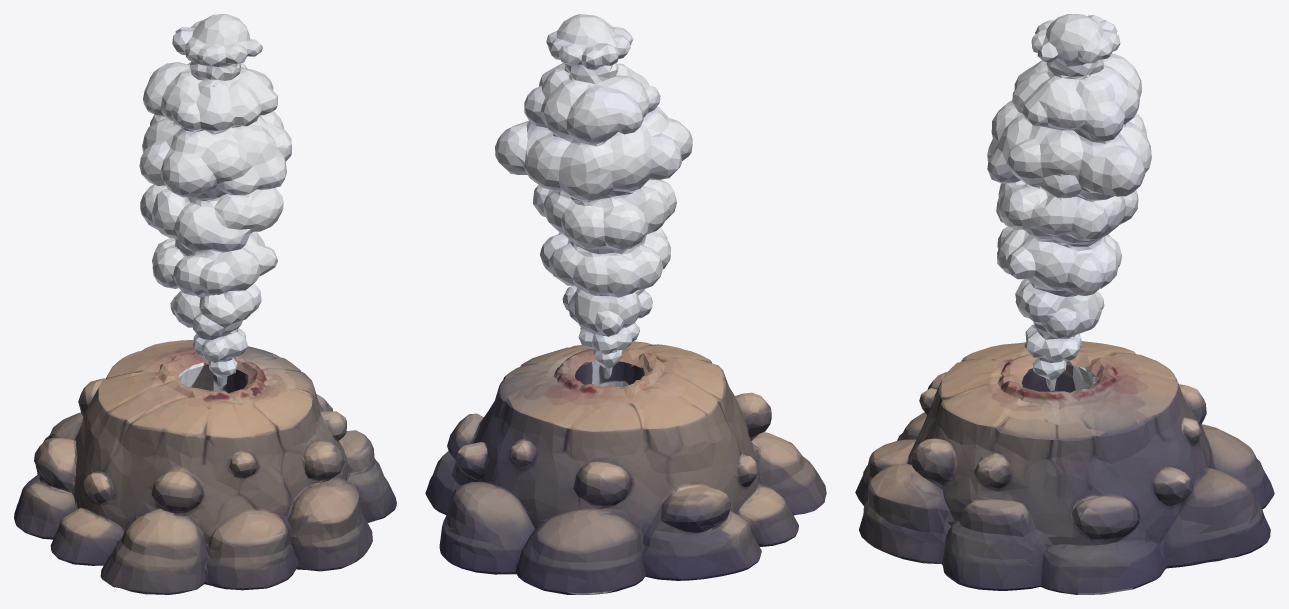
Rendered from geyser.glb.
3 renders of one model, left to right at view 1: azimuth 30°, elevation 25°; view 2: azimuth 150°, elevation 25°; view 3: azimuth 270°, elevation 25°, orthographic. The views are drawn at different scales.
Visible parts, largest first — view 1: tmpmy16l9vn.ply; view 2: tmpmy16l9vn.ply; view 3: tmpmy16l9vn.ply.
Boxes of the visible parts, <box> form: tmpmy16l9vn.ply: <box>14,14,396,594</box>; tmpmy16l9vn.ply: <box>425,14,826,594</box>; tmpmy16l9vn.ply: <box>855,14,1274,594</box>.
Bounding box in the file's own units: 1.41 × 1.99 × 1.49.
1 material, 1 textured.
